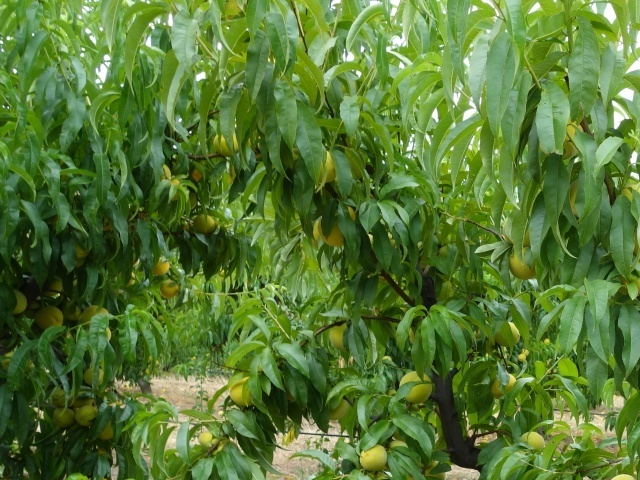peach: (504, 241, 540, 282), (396, 369, 435, 405), (224, 372, 257, 410), (357, 440, 390, 475), (313, 218, 346, 251), (209, 129, 242, 159), (34, 304, 67, 334), (77, 301, 112, 329), (492, 319, 524, 349), (515, 427, 548, 454), (490, 371, 519, 399), (48, 405, 77, 431), (8, 285, 30, 318), (326, 320, 351, 349), (73, 402, 100, 427), (80, 365, 107, 388), (46, 388, 73, 411), (191, 212, 216, 236), (150, 254, 174, 279), (157, 277, 181, 302), (194, 431, 219, 451)
